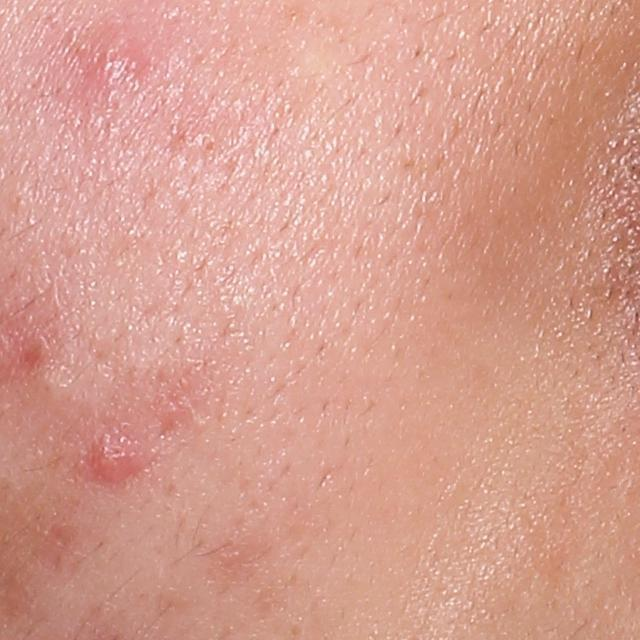papule: (92, 444, 139, 481)
